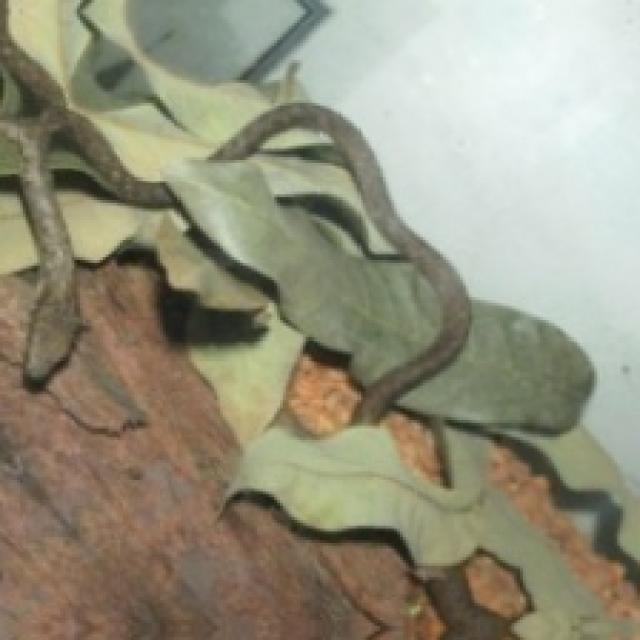philippine whip snake: (200, 103, 469, 423), (0, 0, 220, 383), (209, 103, 469, 420), (422, 566, 514, 640)
